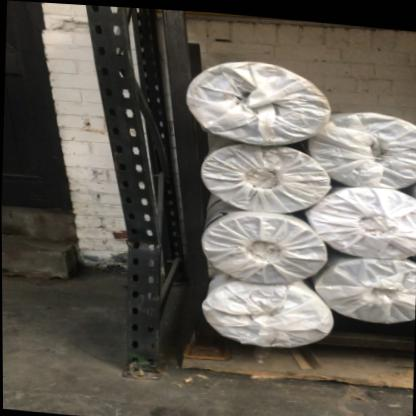vertical_damage: (102, 145, 176, 285)
